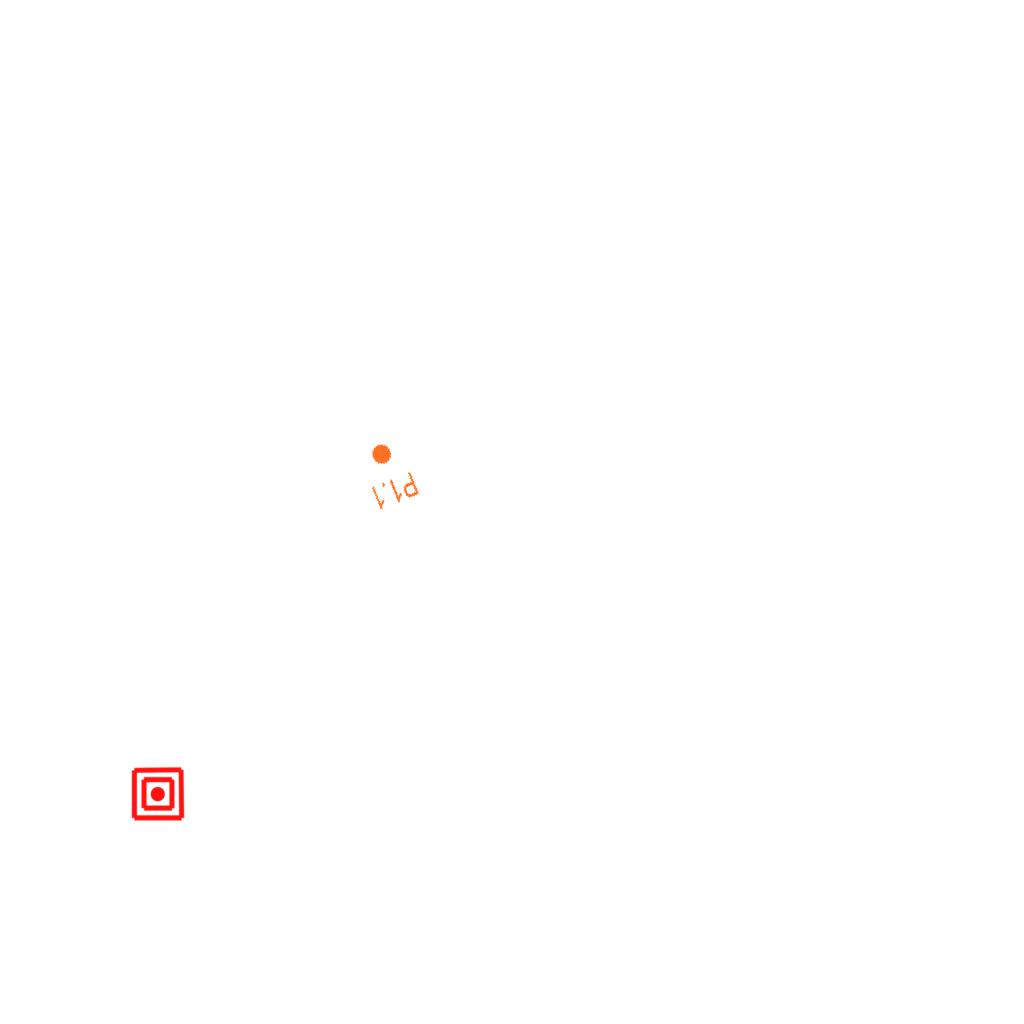Downlight_LED_Einbauleuchten_Flur: (354, 435, 422, 513)
NAM-Nichtautomatischer_Melder: (130, 766, 186, 822)
